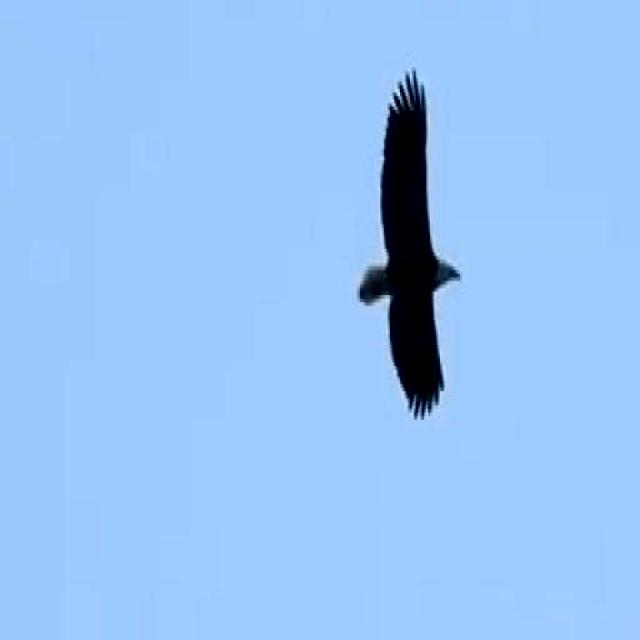airplane: (340, 45, 486, 435)
